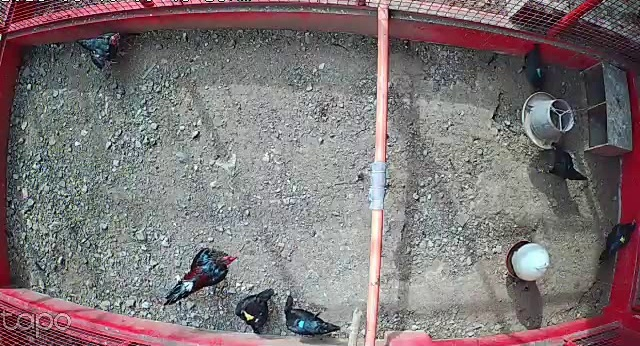Chicken: (278, 287, 350, 341), (70, 28, 137, 75), (510, 37, 550, 98), (228, 283, 273, 336), (595, 212, 638, 264), (539, 141, 589, 184)
Rooster: (165, 245, 240, 309)
Saddle_Color_Blue: (298, 320, 304, 329)
Saddle_Color_Yellow: (238, 308, 257, 321)
